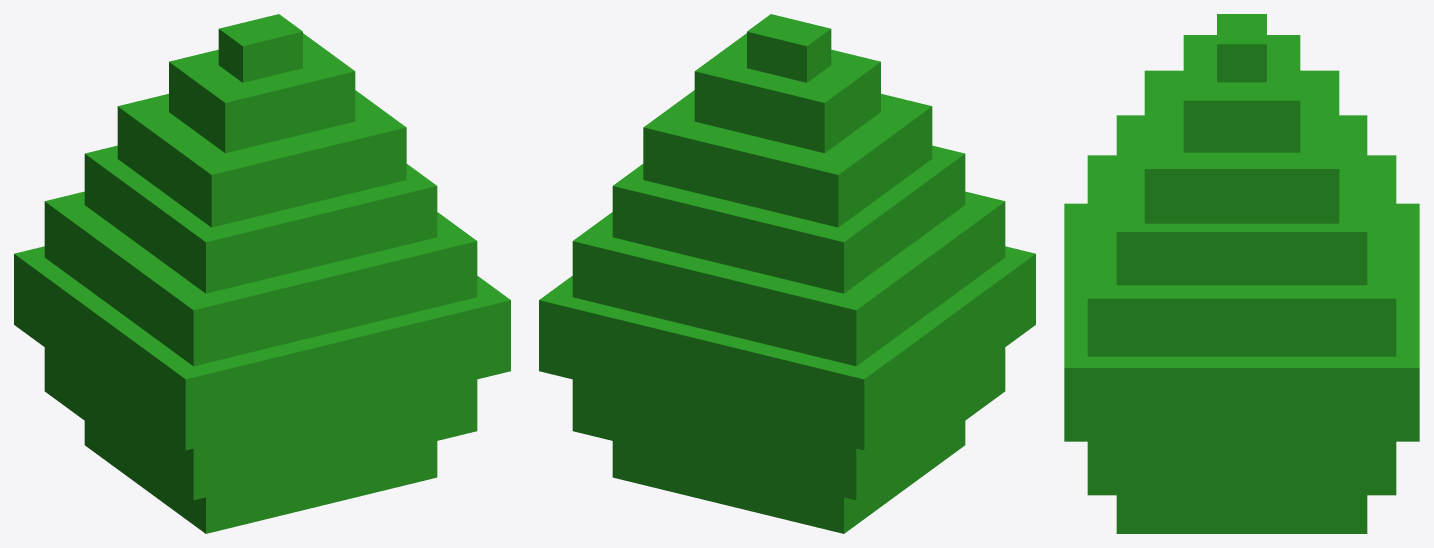
Rendered from 초록색 물방울 1.fbx.
3 views of the same model, side by side, from view 1: azimuth 30°, elevation 25°; view 2: azimuth 150°, elevation 25°; view 3: azimuth 270°, elevation 25° (orthographic). The views are drawn at different scales.
Visible parts, largest first — view 1: Box003; view 2: Box003; view 3: Box003.
Part boxes in pixels (x1,y1,x2,y2): Box003: [14, 14, 510, 533]; Box003: [539, 14, 1035, 533]; Box003: [1064, 14, 1419, 533].
Bounding box in the file's own units: 40.25 × 51.02 × 36.83.
1 material, 1 textured.
